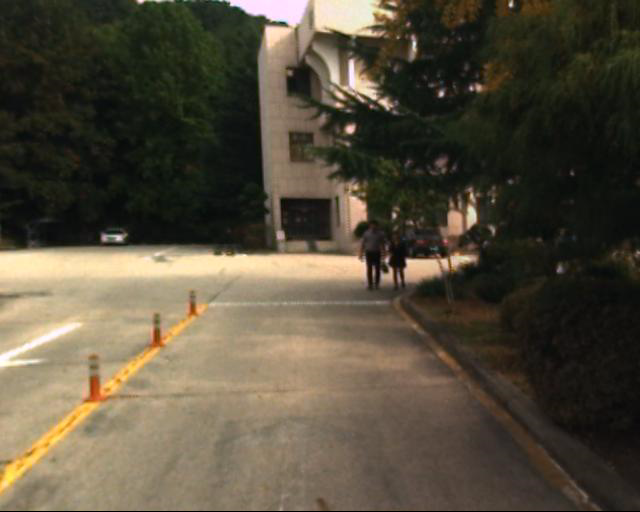person: (360, 219, 387, 293), (385, 225, 413, 296)
